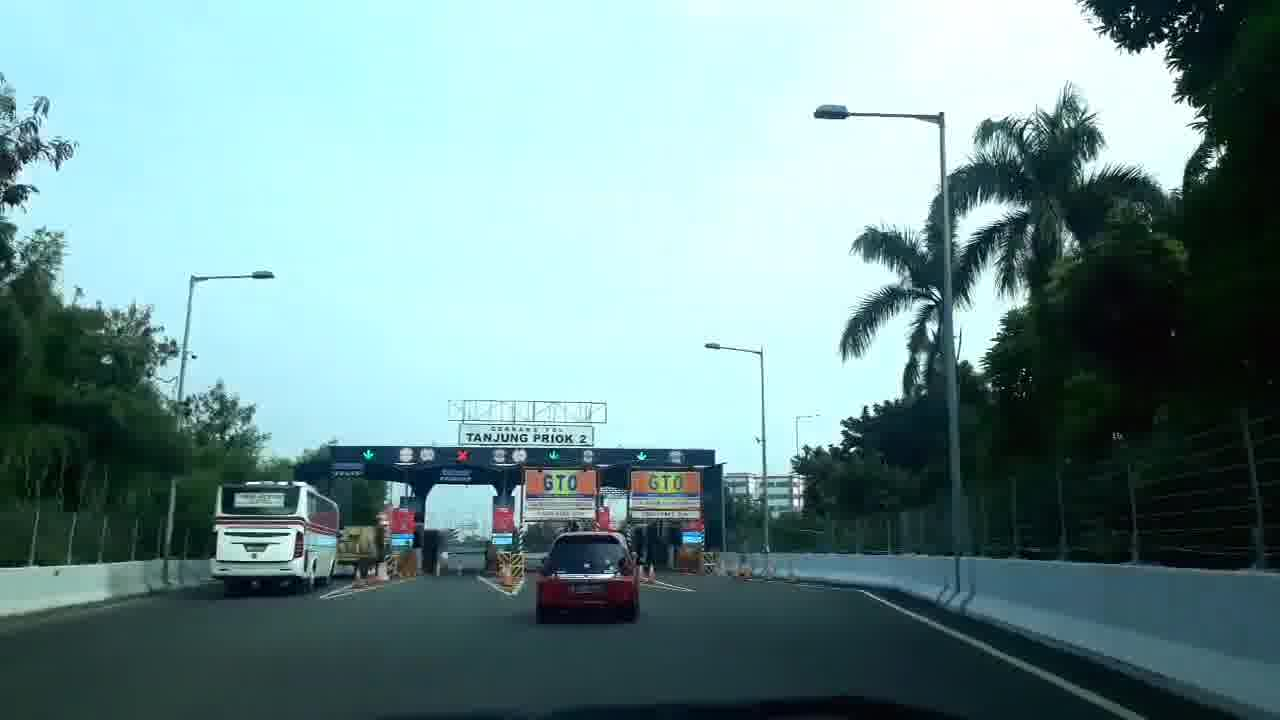plate_positive: (572, 583, 602, 593)
